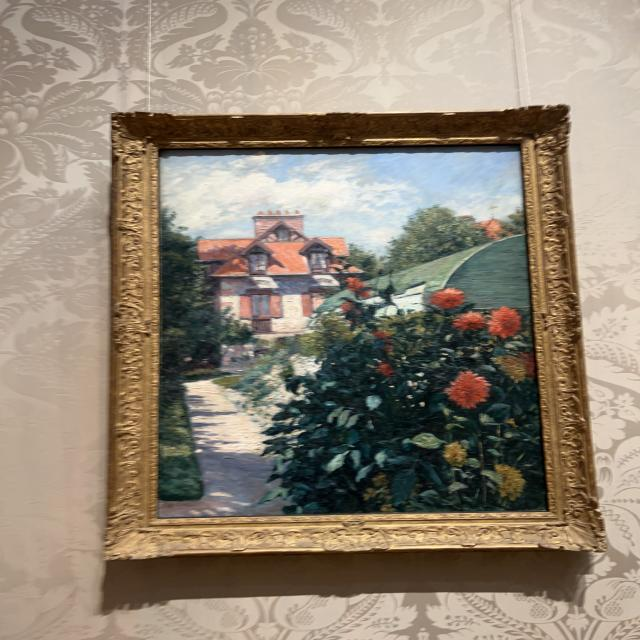summer: (161, 151, 544, 514)
